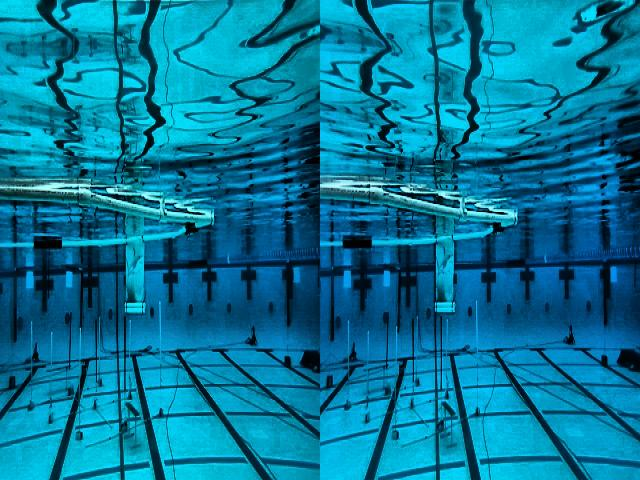gate: (602, 258, 640, 326), (286, 257, 320, 330)
octagon_top: (0, 186, 216, 310), (320, 186, 518, 312)
path_marker: (439, 400, 458, 450), (124, 401, 141, 450)
shark: (126, 239, 144, 308), (436, 242, 454, 304)
